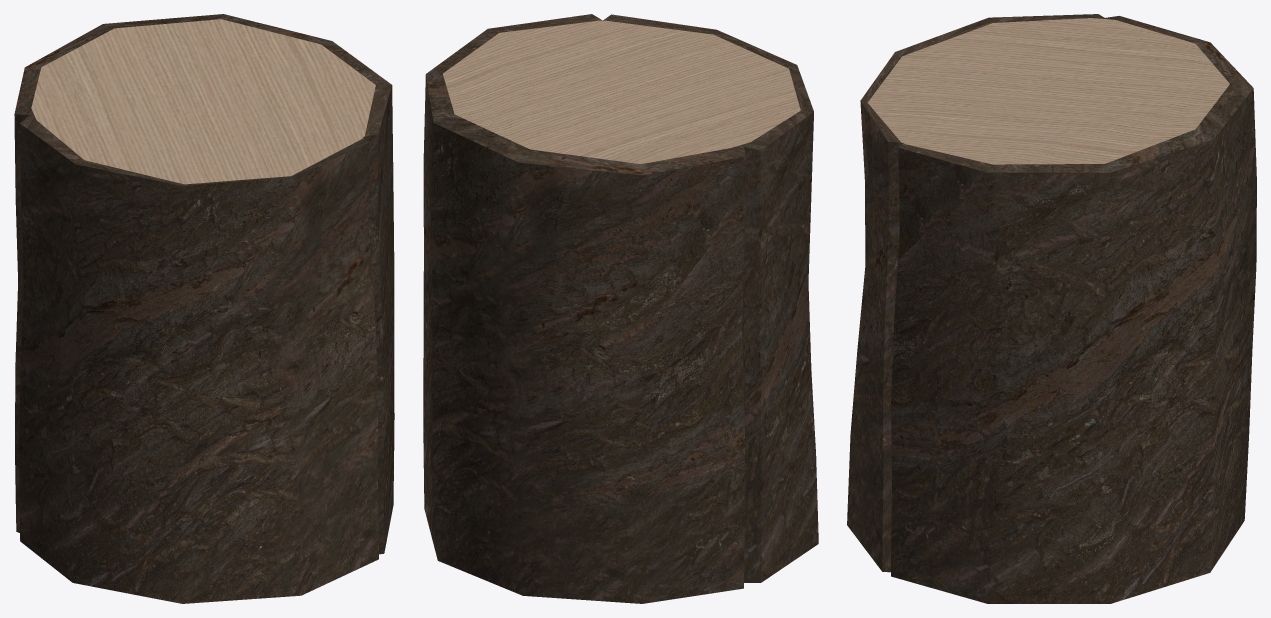
The model's file is Log.glb.
3 renders of one model, left to right at view 1: azimuth 30°, elevation 25°; view 2: azimuth 150°, elevation 25°; view 3: azimuth 270°, elevation 25°, orthographic. The views are drawn at different scales.
Parts seen in each view (by area): view 1: Log; view 2: Log; view 3: Log.
Boxes of the visible parts, left/top/right/bottom form: Log: left=14, top=14, right=394, bottom=603; Log: left=423, top=14, right=818, bottom=603; Log: left=847, top=14, right=1256, bottom=603.
Bounding box in the file's own units: 0.3935 × 0.5072 × 0.4235.
Materials: 2 (2 with a texture image).
